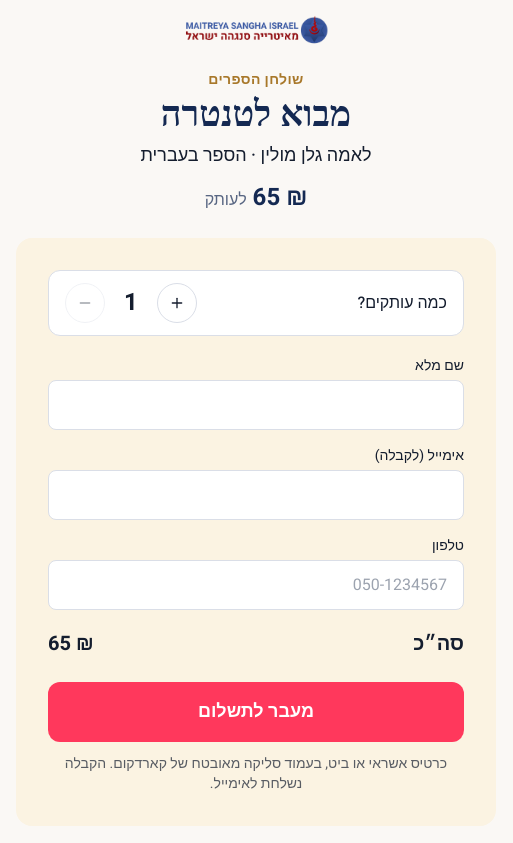
Test: TablePay › book page: copies change the total and are posted with the book's code
The image size is (513, 843).
Later steps or results of the test are not shown.
Expected: the heading "מבוא לטנטרה" is shown, [161,94,351,134]
Expected: the text with test id "total" reads "65 ₪", [48,630,94,658]
What coordinates should you click on to do the following:
click the button named "+"
I would click on:
 (177, 303)
Its box is [157,283,197,323].
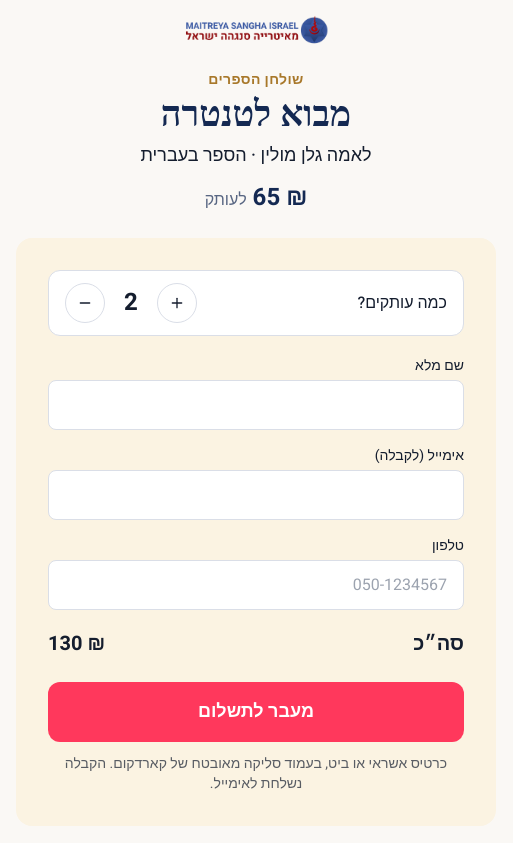
What coordinates should you click on to do the following:
click the button named "+"
I would click on:
 (177, 303)
Its box is [157,283,197,323].
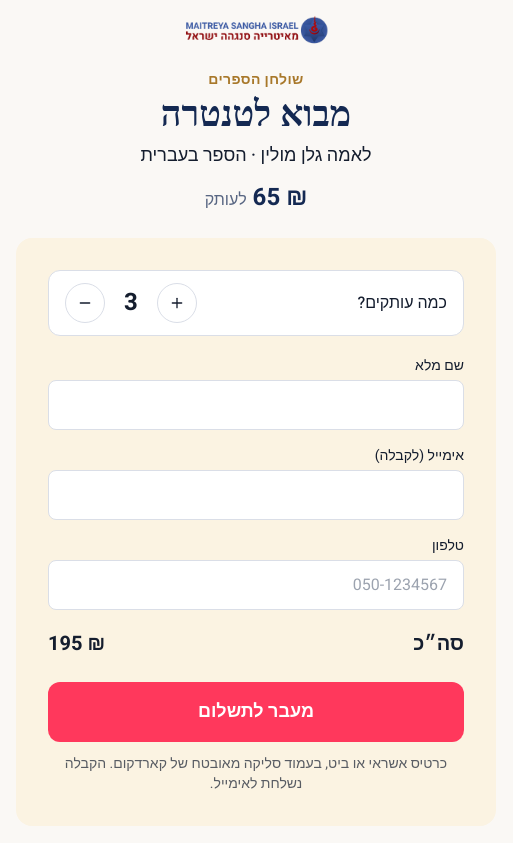
Now the text with test id "copies" reads "3", box [124,285,138,320]
Now the text with test id "total" reads "195 ₪", box [48,630,105,658]
